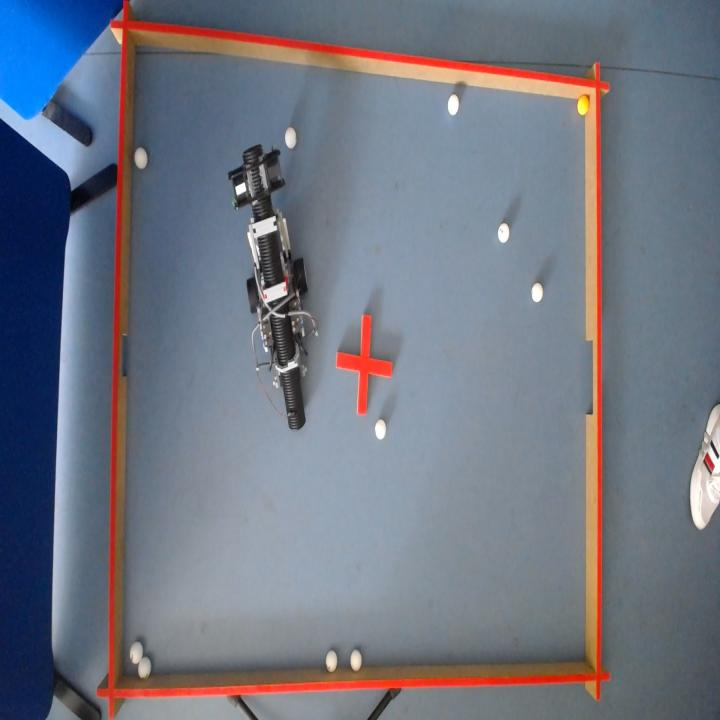orange: (578, 93, 590, 114)
robot: (228, 143, 317, 428)
white: (129, 641, 143, 665), (133, 145, 147, 168), (137, 657, 151, 679), (284, 125, 297, 148), (326, 650, 338, 673), (448, 92, 460, 114), (350, 650, 362, 672), (498, 221, 510, 242), (532, 281, 544, 302), (375, 419, 387, 439)
